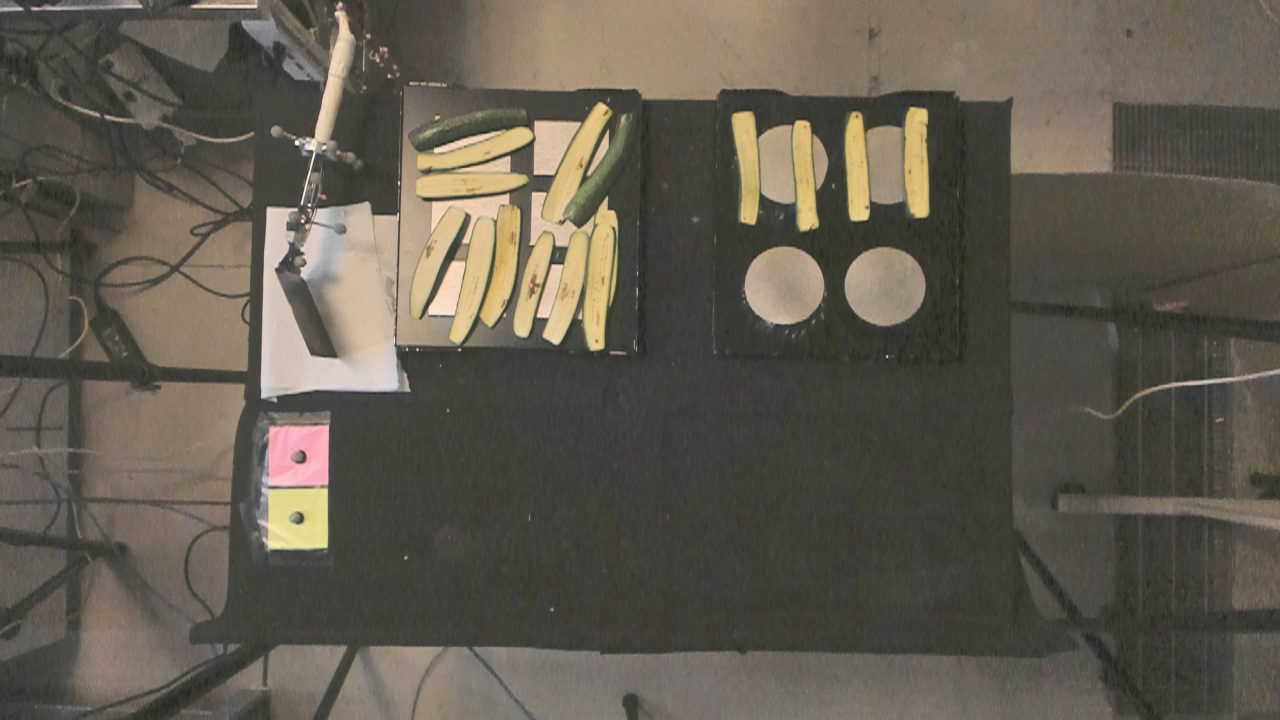marker: (268, 424, 329, 485)
zucchini: (547, 90, 607, 224), (405, 207, 462, 324), (408, 96, 540, 144), (897, 104, 942, 228), (542, 229, 581, 352), (724, 114, 765, 230), (407, 167, 542, 201), (789, 115, 824, 240), (840, 103, 873, 227)
